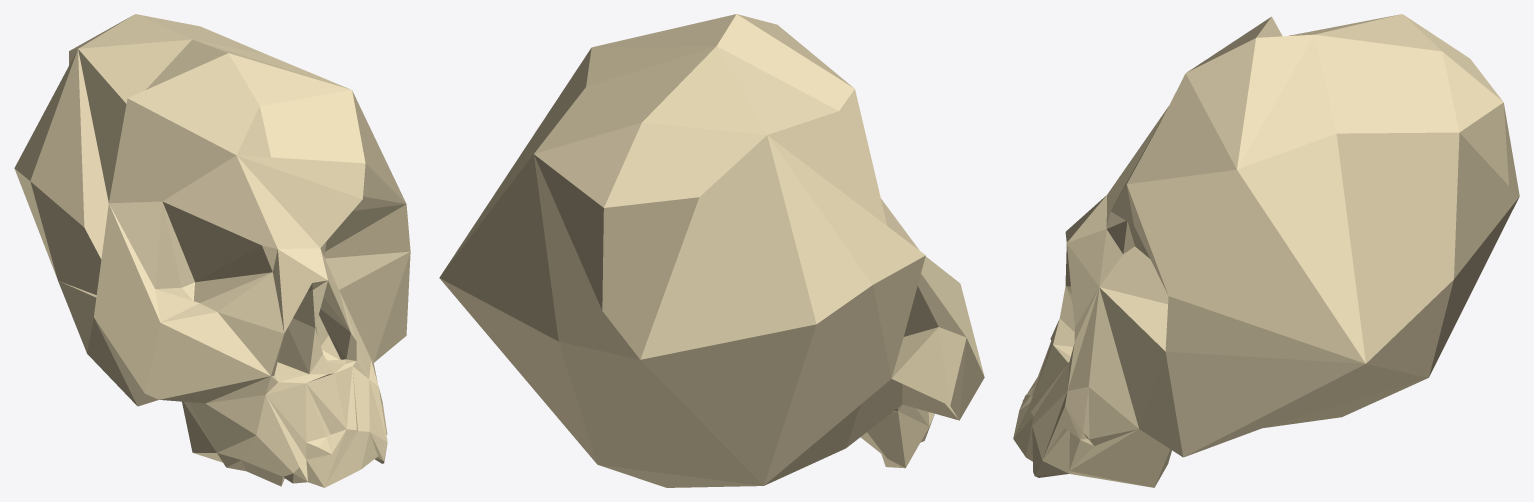
File: skull.FBX
The picture shows the model from 3 angles, left to right: view 1: azimuth 30°, elevation 25°; view 2: azimuth 150°, elevation 25°; view 3: azimuth 270°, elevation 25°; orthographic projection. The views are drawn at different scales.
Visible parts, largest first — view 1: skull; view 2: skull; view 3: skull.
Part boxes in pixels (x1,y1,x2,y2): skull: (14, 14, 410, 487); skull: (439, 14, 984, 487); skull: (1013, 14, 1519, 487).
Bounding box in the file's own units: 2.49 × 2.61 × 2.95.
